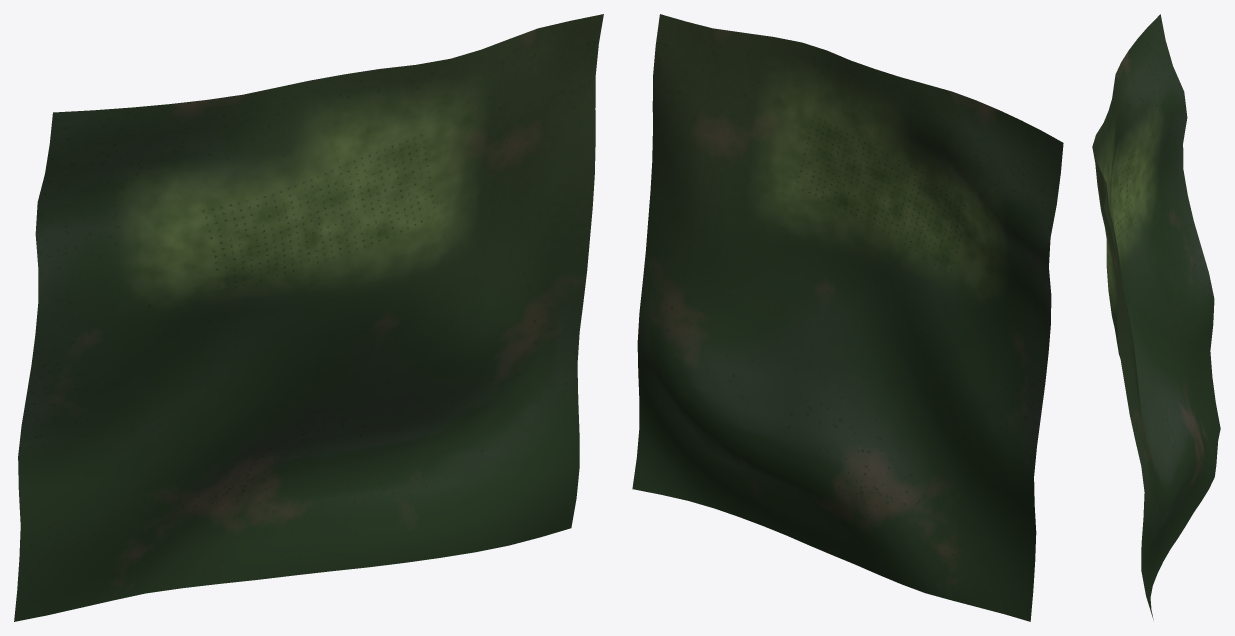
Rendered from terrain_far_01_00.obj.
3 renders of one model, left to right at view 1: azimuth 30°, elevation 25°; view 2: azimuth 150°, elevation 25°; view 3: azimuth 270°, elevation 25°, orthographic. The views are drawn at different scales.
Visible parts, largest first — view 1: terrain_far_01_00; view 2: terrain_far_01_00; view 3: terrain_far_01_00.
Boxes of the visible parts, x1=… form: terrain_far_01_00: x1=14, y1=14, x2=603, y2=621; terrain_far_01_00: x1=632, y1=14, x2=1063, y2=621; terrain_far_01_00: x1=1092, y1=14, x2=1220, y2=619.
Bounding box in the file's own units: 640 × 640 × 180.
1 material, 1 textured.
